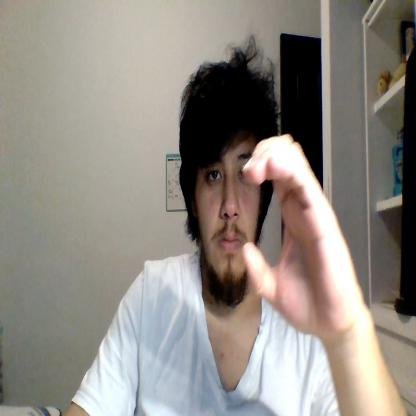C: (243, 134, 349, 336)
